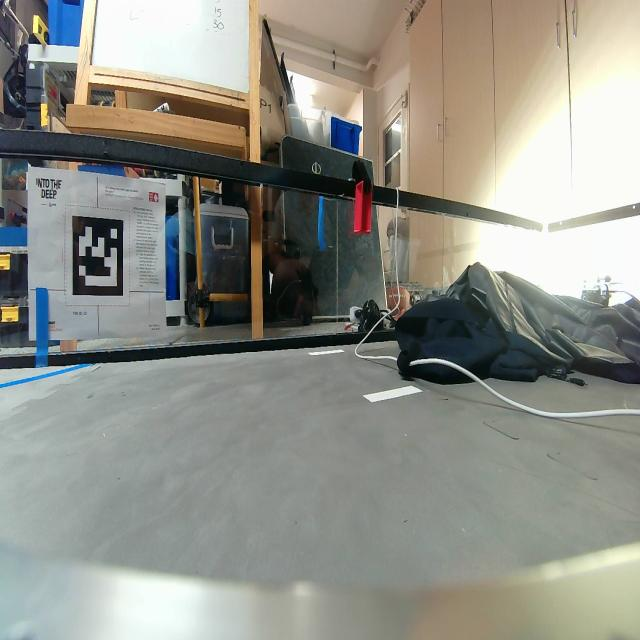specimen_block_red: (354, 176, 374, 236)
